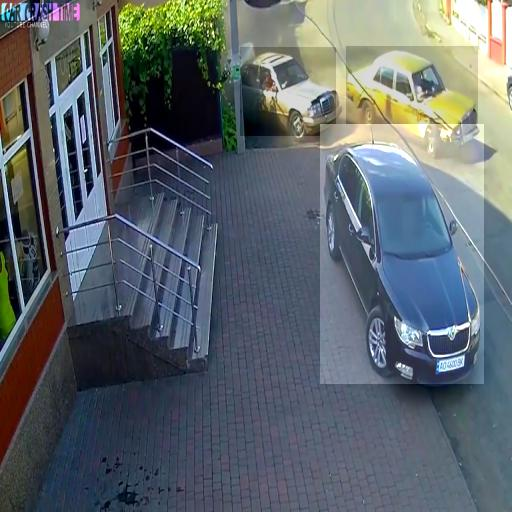小汽车: (320, 124, 484, 384), (346, 46, 478, 146), (240, 47, 336, 136)
